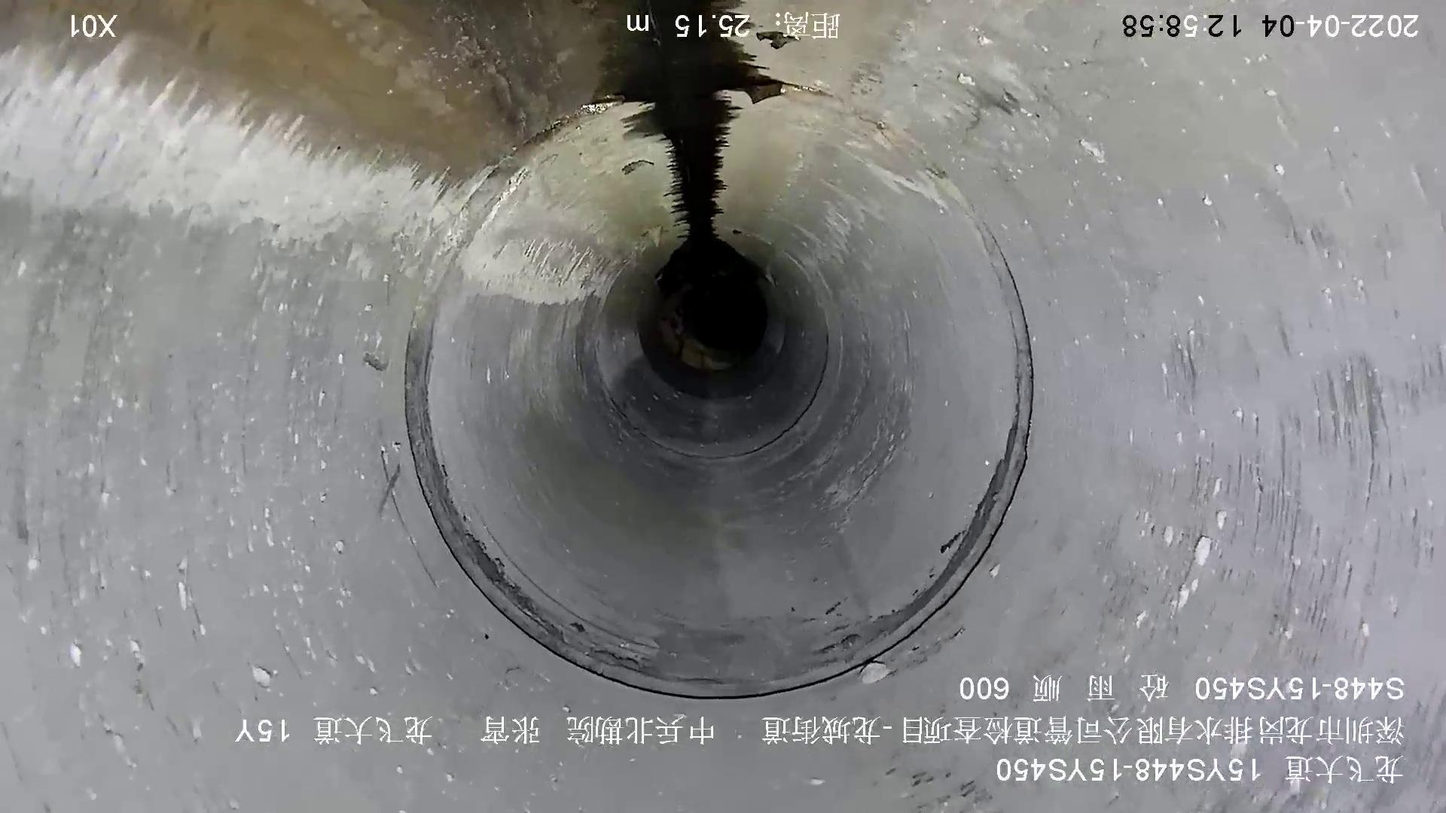CKTJ: (404, 166, 1034, 699)
